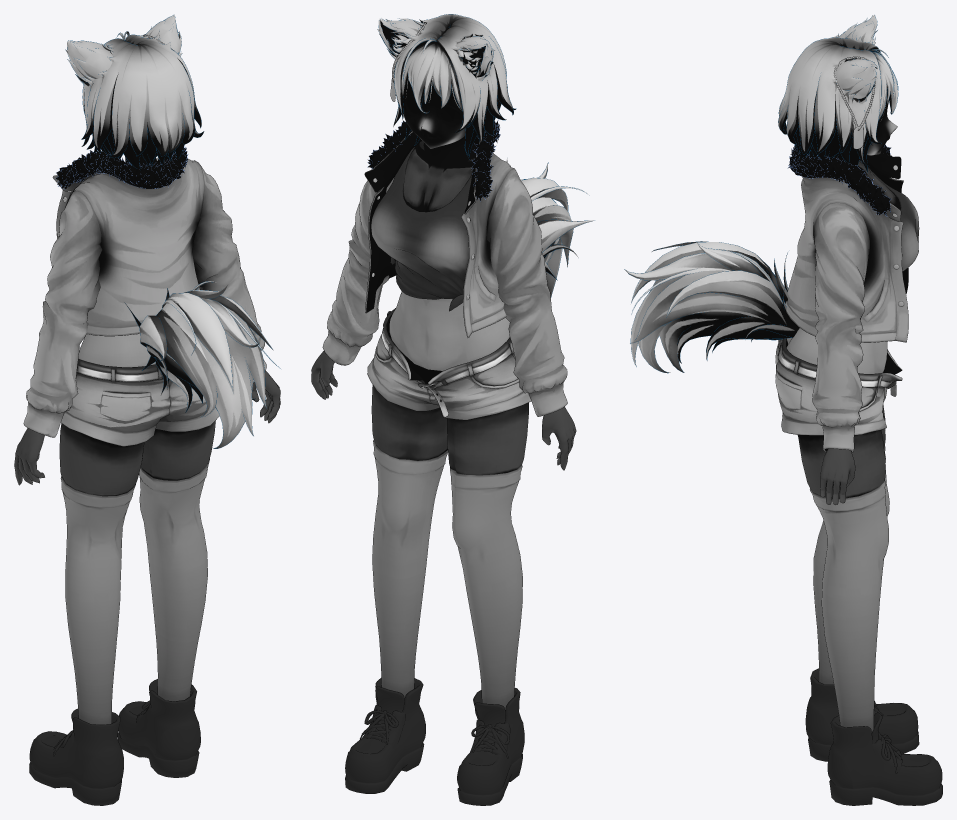
File: foxgirl.glb
3 renders of one model, left to right at view 1: azimuth 30°, elevation 25°; view 2: azimuth 150°, elevation 25°; view 3: azimuth 270°, elevation 25°, orthographic.
Visible parts, largest first — view 1: Object_49.001, Object_57.001, Object_65.001, Object_63.001, Object_59.001, Object_61.001, Object_55.001, Object_51.001, Object_71.001, Object_31.001, Object_35.001, Object_41.001 (+3 smaller); view 2: Object_57.001, Object_49.001, Object_61.001, Object_59.001, Object_53.001, Object_55.001, Object_65.001, Object_63.001, Object_67.001, mesh_1.001, Object_51.001, Object_35.001 (+7 smaller); view 3: Object_49.001, Object_63.001, Object_57.001, Object_59.001, Object_65.001, Object_61.001, Object_55.001, Object_51.001, Object_53.001, Object_31.001, Object_71.001, Object_35.001 (+4 smaller).
Part boxes in pixels (x1=…): Object_49.001: x1=24, y1=155, x2=266, y2=437; Object_57.001: x1=61, y1=459, x2=209, y2=724; Object_65.001: x1=66, y1=14, x2=203, y2=157; Object_63.001: x1=124, y1=281, x2=277, y2=448; Object_59.001: x1=29, y1=679, x2=200, y2=805; Object_61.001: x1=14, y1=153, x2=280, y2=496; Object_55.001: x1=61, y1=359, x2=219, y2=446; Object_51.001: x1=56, y1=147, x2=187, y2=189; Object_71.001: x1=87, y1=124, x2=184, y2=170; Object_31.001: x1=125, y1=281, x2=280, y2=448; Object_35.001: x1=23, y1=157, x2=266, y2=437; Object_41.001: x1=60, y1=459, x2=209, y2=722; Object_57.001: x1=372, y1=440, x2=522, y2=709; Object_49.001: x1=323, y1=131, x2=567, y2=416; Object_61.001: x1=311, y1=137, x2=575, y2=475; Object_59.001: x1=345, y1=678, x2=524, y2=805; Object_53.001: x1=371, y1=147, x2=471, y2=310; Object_55.001: x1=367, y1=309, x2=531, y2=419; Object_65.001: x1=377, y1=14, x2=515, y2=146; Object_63.001: x1=506, y1=158, x2=593, y2=297; Object_67.001: x1=401, y1=38, x2=462, y2=113; mesh_1.001: x1=402, y1=80, x2=465, y2=148; Object_51.001: x1=368, y1=120, x2=500, y2=201; Object_35.001: x1=322, y1=131, x2=567, y2=416; Object_49.001: x1=784, y1=151, x2=908, y2=452; Object_63.001: x1=625, y1=241, x2=799, y2=372; Object_57.001: x1=810, y1=446, x2=889, y2=732; Object_59.001: x1=806, y1=668, x2=942, y2=805; Object_65.001: x1=778, y1=15, x2=882, y2=166; Object_61.001: x1=786, y1=153, x2=900, y2=504; Object_55.001: x1=775, y1=338, x2=901, y2=435; Object_51.001: x1=788, y1=144, x2=890, y2=215; Object_53.001: x1=859, y1=160, x2=918, y2=270; Object_31.001: x1=624, y1=241, x2=791, y2=373; Object_71.001: x1=793, y1=125, x2=870, y2=171; Object_35.001: x1=786, y1=152, x2=908, y2=452.
Size of what is drawn, in the model's own units: 0.9409 by 2.6 by 1.02.
10 materials, 7 textured.
